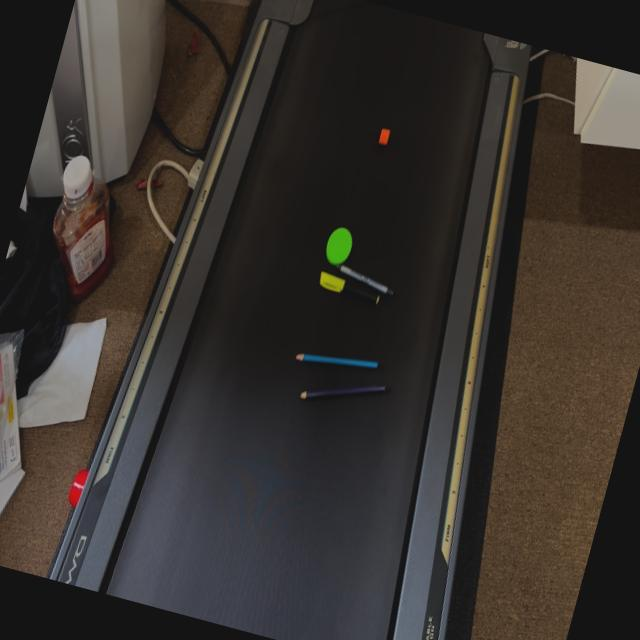Trash: (302, 204, 426, 328), (284, 320, 404, 434), (364, 106, 414, 167)
